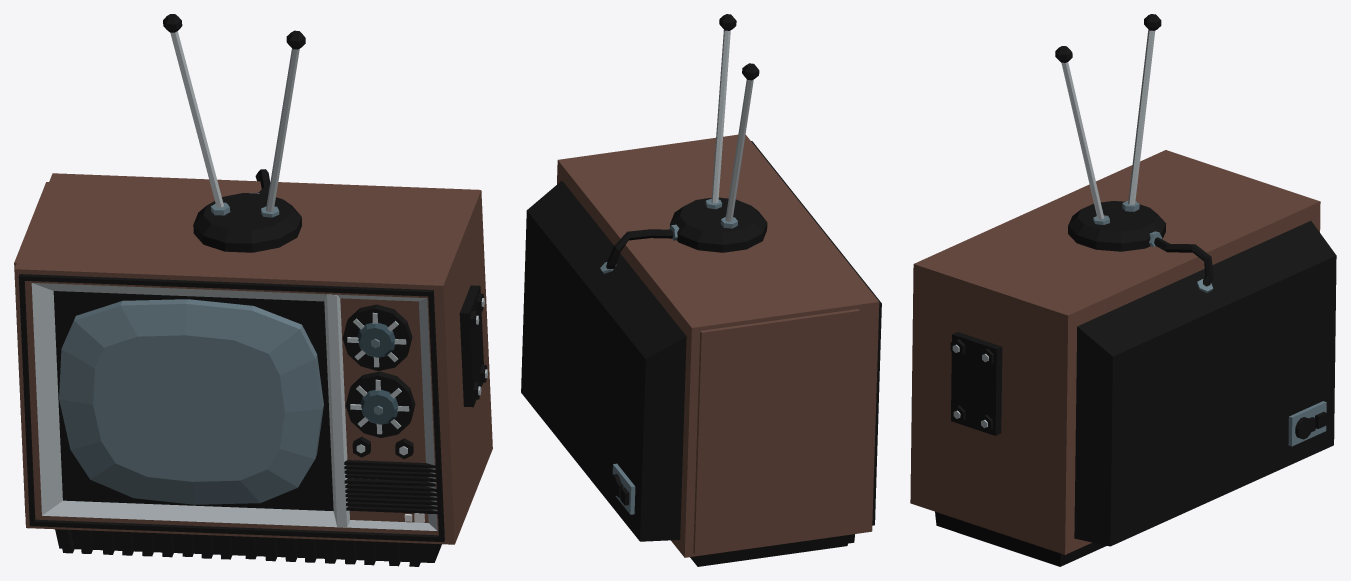
Rendered from TV.gltf.glb.
The picture shows the model from 3 angles, left to right: view 1: azimuth 30°, elevation 25°; view 2: azimuth 150°, elevation 25°; view 3: azimuth 270°, elevation 25°; orthographic projection. The views are drawn at different scales.
Visible parts, largest first — view 1: node_MeshObject1647431680-PolyPaper20; view 2: node_MeshObject1647431680-PolyPaper20; view 3: node_MeshObject1647431680-PolyPaper20.
Part boxes in pixels (x1,y1,x2,y2): node_MeshObject1647431680-PolyPaper20: (14, 14, 492, 566); node_MeshObject1647431680-PolyPaper20: (521, 14, 881, 566); node_MeshObject1647431680-PolyPaper20: (910, 14, 1336, 566).
Bounding box in the file's own units: 0.6721 × 0.759 × 0.6374.
